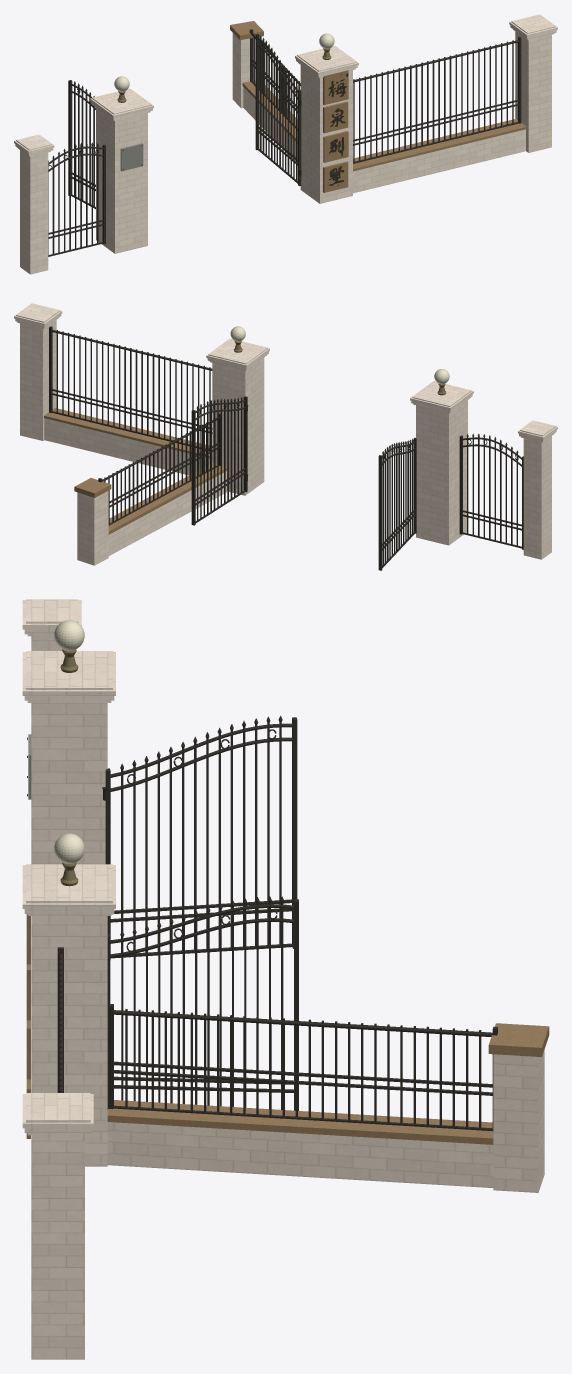
The model's file is changning-meiquan-villas-inscribed-entrance-web.glb.
3 views of the same model, one above another, from view 1: azimuth 30°, elevation 25°; view 2: azimuth 150°, elevation 25°; view 3: azimuth 270°, elevation 25° (orthographic). The views are drawn at different scales.
Parts seen in each view (by area): view 1: 新华路593弄梅泉别墅东北入口刻名门柱与铁门; view 2: 新华路593弄梅泉别墅东北入口刻名门柱与铁门; view 3: 新华路593弄梅泉别墅东北入口刻名门柱与铁门.
Boxes of the visible parts, x1,y1,x2,y2 form: 新华路593弄梅泉别墅东北入口刻名门柱与铁门: [14, 14, 557, 274]; 新华路593弄梅泉别墅东北入口刻名门柱与铁门: [14, 303, 557, 570]; 新华路593弄梅泉别墅东北入口刻名门柱与铁门: [22, 599, 549, 1359].
Bounding box in the file's own units: 11.99 × 3.59 × 5.19.
7 materials, 2 textured.
